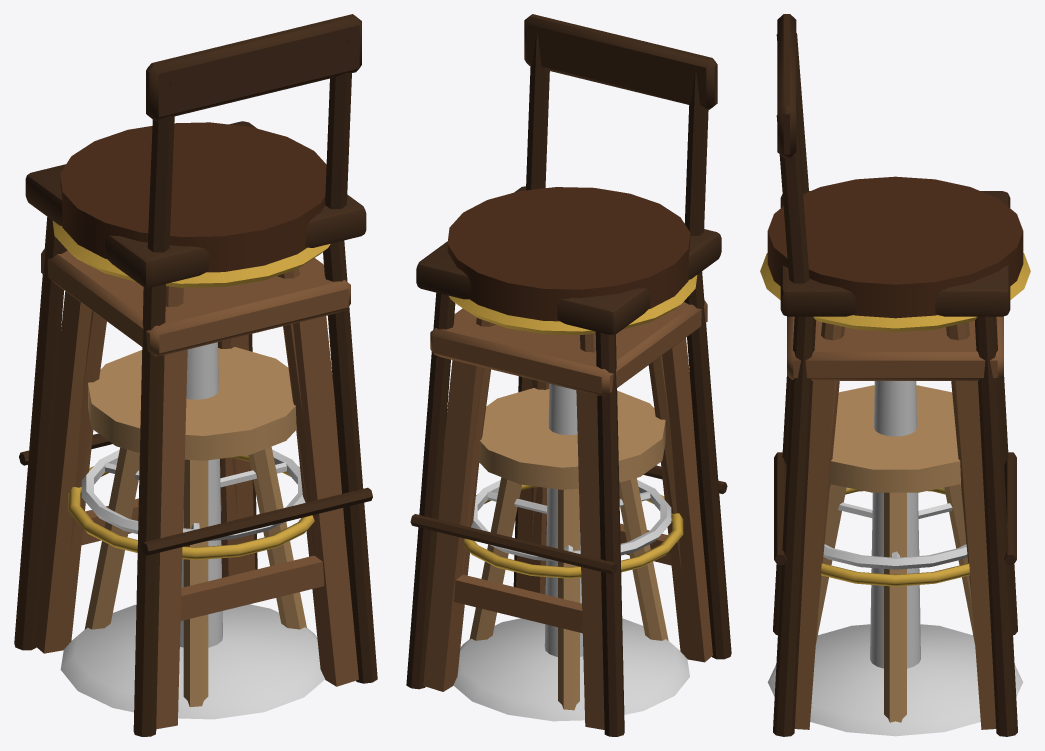
The model's file is stools.glb.
The picture shows the model from 3 angles, left to right: view 1: azimuth 30°, elevation 25°; view 2: azimuth 150°, elevation 25°; view 3: azimuth 270°, elevation 25°; orthographic projection. The views are drawn at different scales.
Parts seen in each view (by area): view 1: stool_backed, stool_padded, stool_tavern, stool_milking, stool_bar_round; view 2: stool_backed, stool_padded, stool_tavern, stool_milking, stool_bar_round; view 3: stool_padded, stool_backed, stool_tavern, stool_milking, stool_bar_round.
Part boxes in pixels (box(x1,y1,x2,y2)): stool_backed: box(14, 14, 377, 736); stool_padded: box(52, 122, 330, 719); stool_tavern: box(35, 249, 358, 729); stool_milking: box(84, 347, 306, 707); stool_bar_round: box(68, 268, 314, 559); stool_backed: box(406, 14, 731, 736); stool_padded: box(447, 187, 697, 721); stool_tavern: box(423, 300, 712, 729); stool_milking: box(469, 388, 668, 710); stool_bar_round: box(462, 317, 683, 578); stool_padded: box(760, 176, 1030, 736); stool_backed: box(773, 14, 1017, 736); stool_tavern: box(787, 316, 1003, 729); stool_milking: box(816, 385, 974, 722); stool_bar_round: box(818, 322, 972, 604).
Size of the model in its own units: 0.424 by 1.08 by 0.424.
